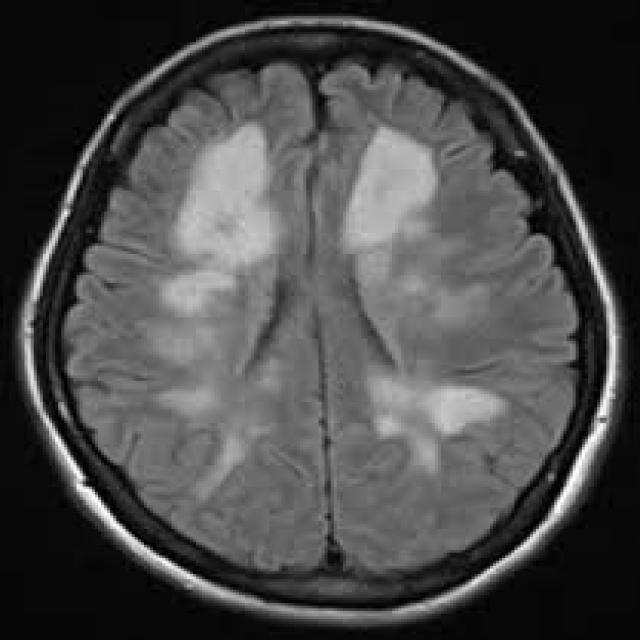No_Tumor: (21, 20, 622, 619)
